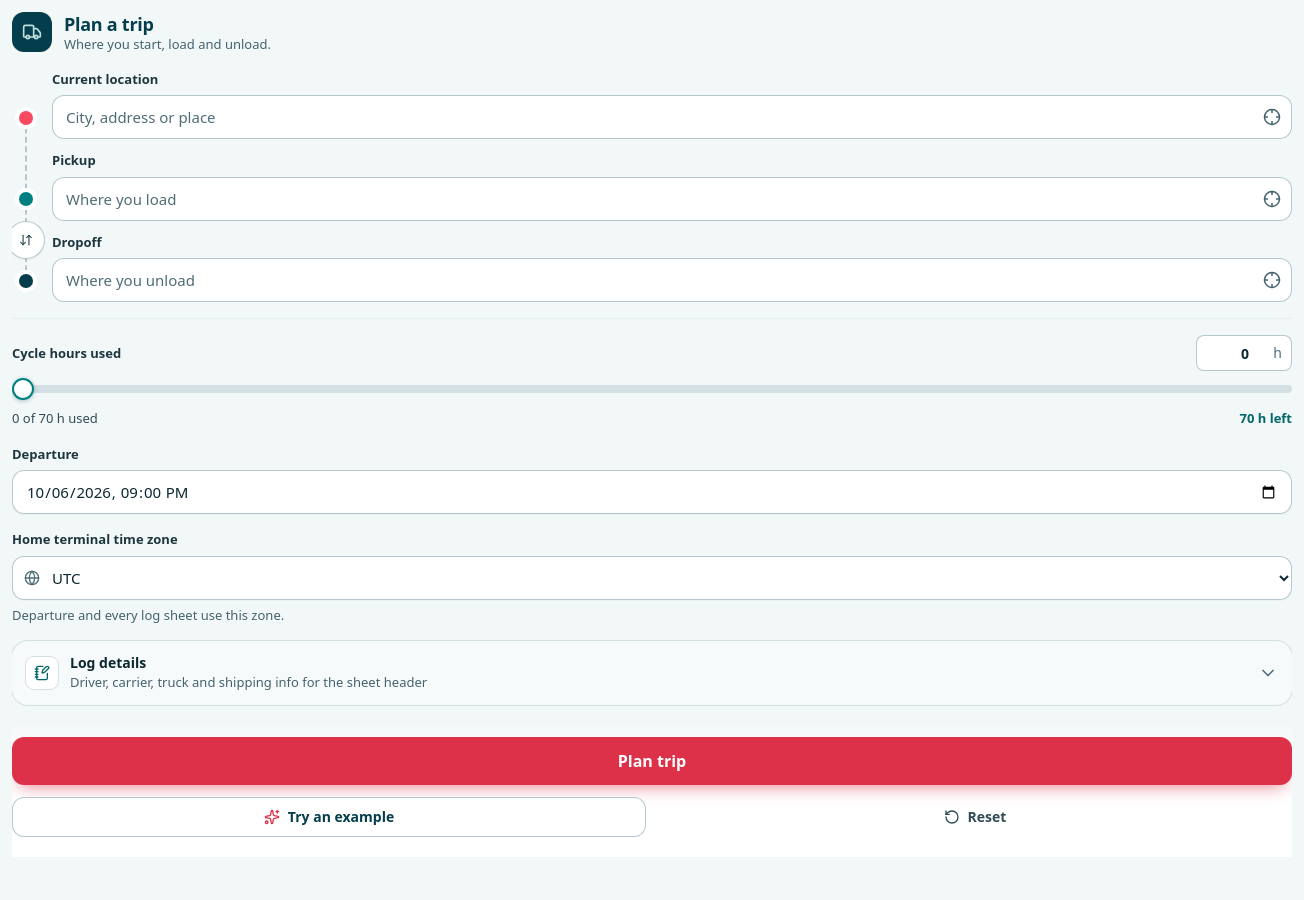
Test: TripForm › validation › rejects an empty departure
The width and height of the screenshot is (1304, 900).
Click the button with test id "btn-example" at [329, 817], box x1=12 y1=797 x2=646 y2=837
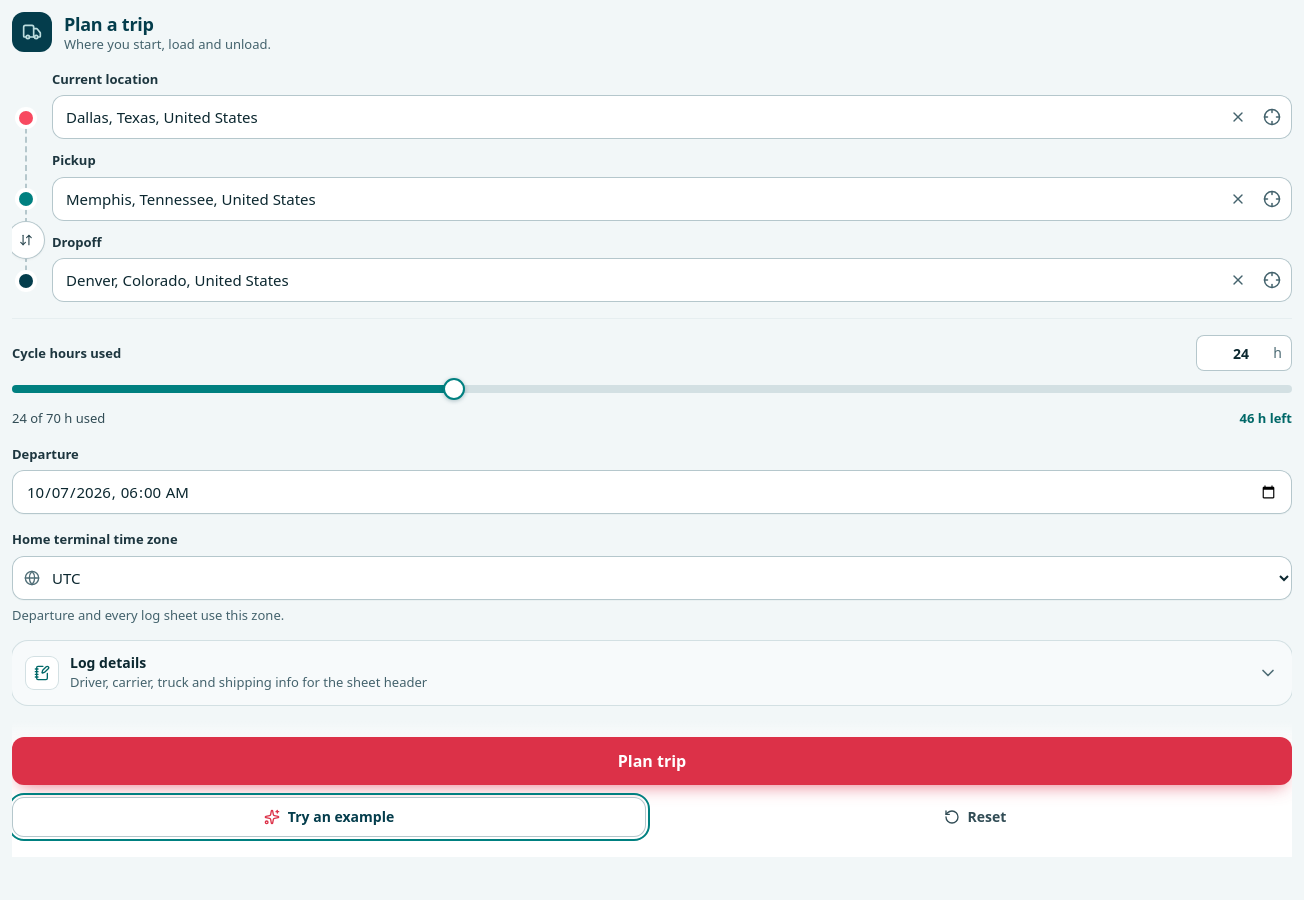
Clear the field with test id "input-departure" at [652, 492], box x1=12 y1=470 x2=1292 y2=514
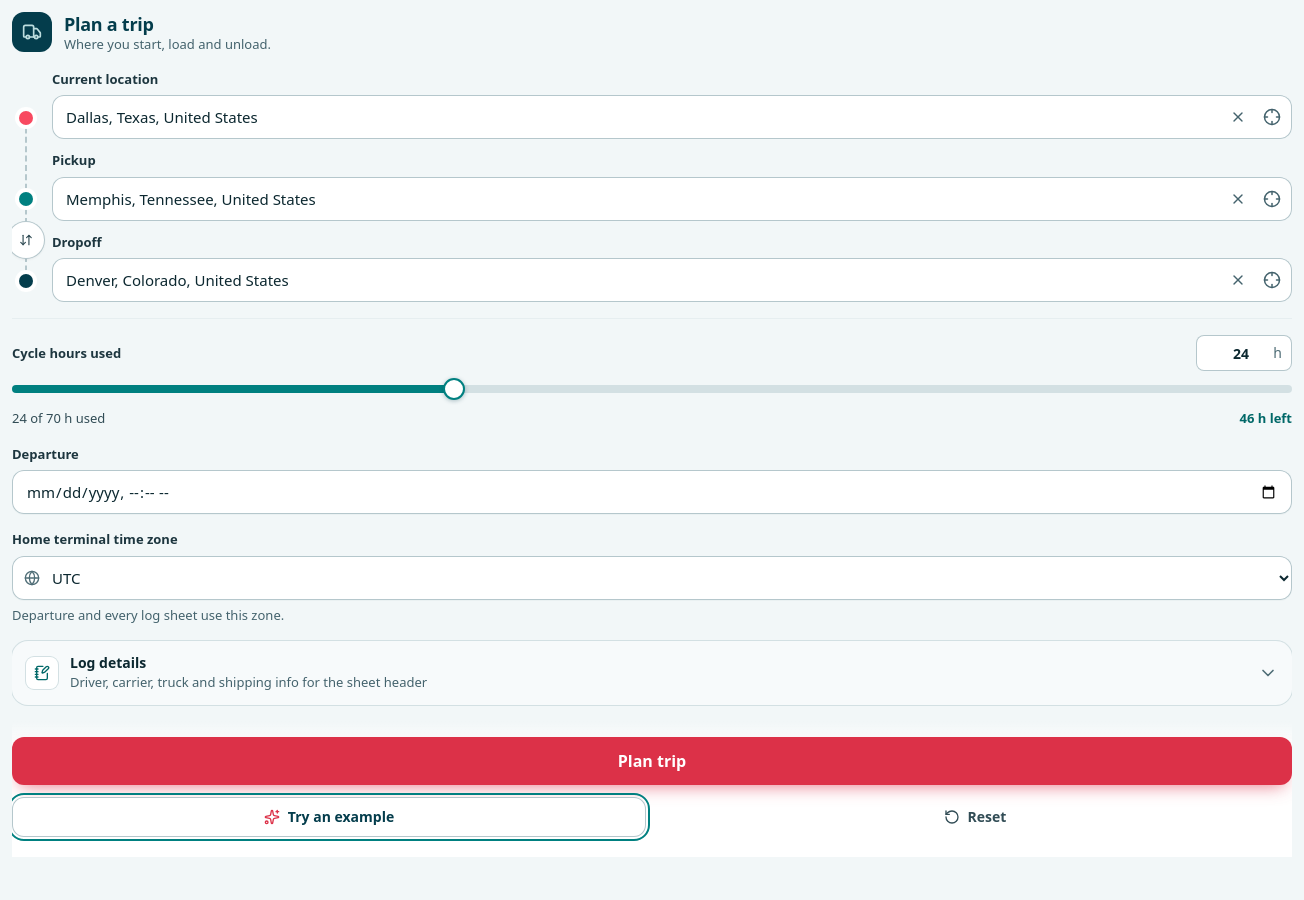
Click the button with test id "btn-plan" at [652, 761], box x1=12 y1=737 x2=1292 y2=785
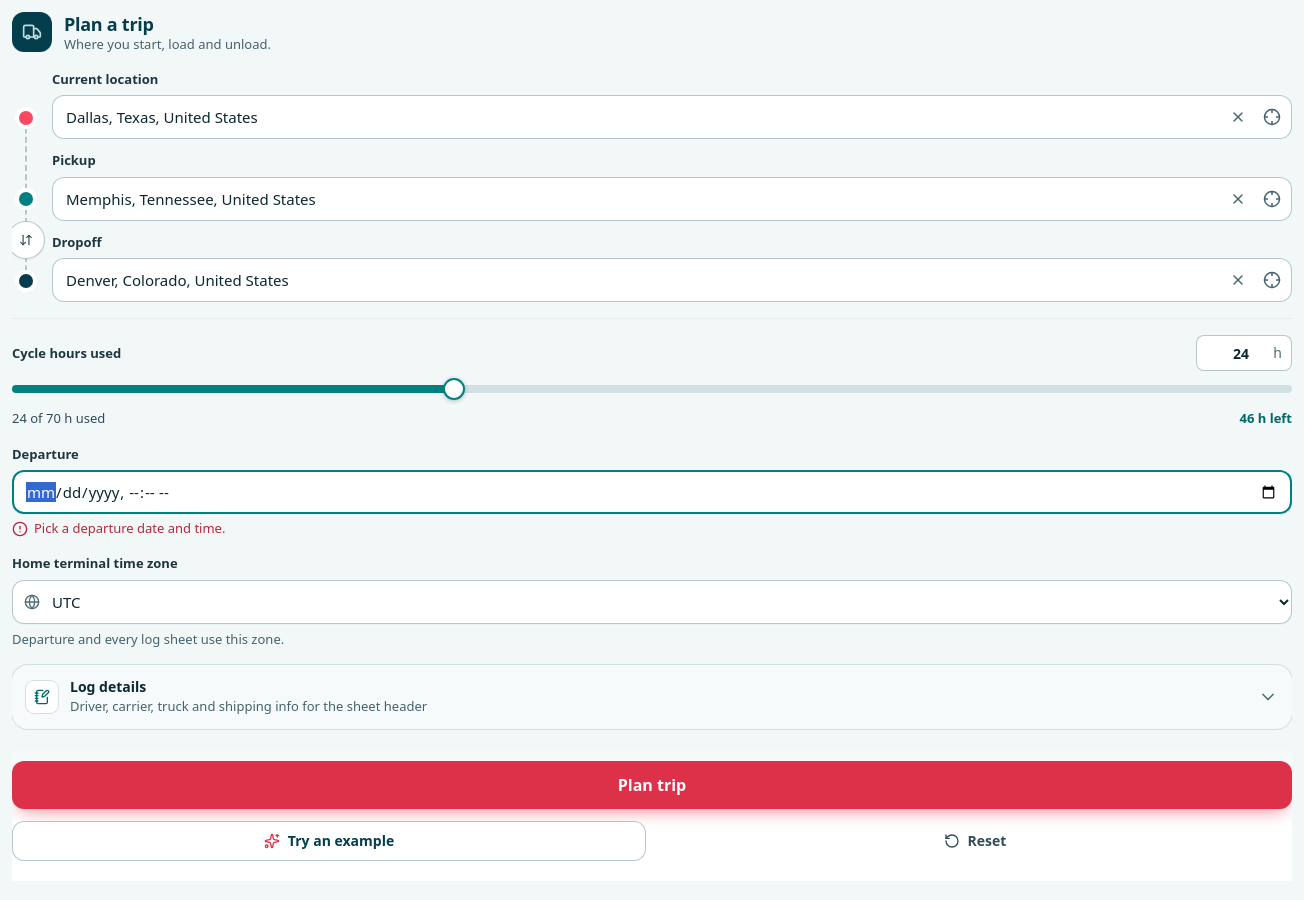
expect the message with test id "form-error-departure" reads "Pick a departure date and time.": met, box x1=34 y1=519 x2=225 y2=537
